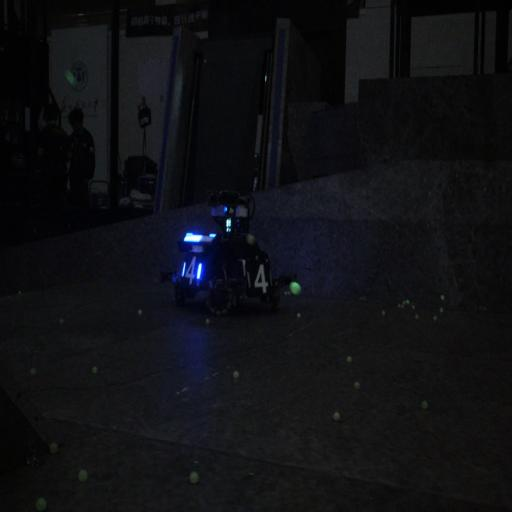target: (242, 255, 274, 300), (180, 253, 207, 294)
